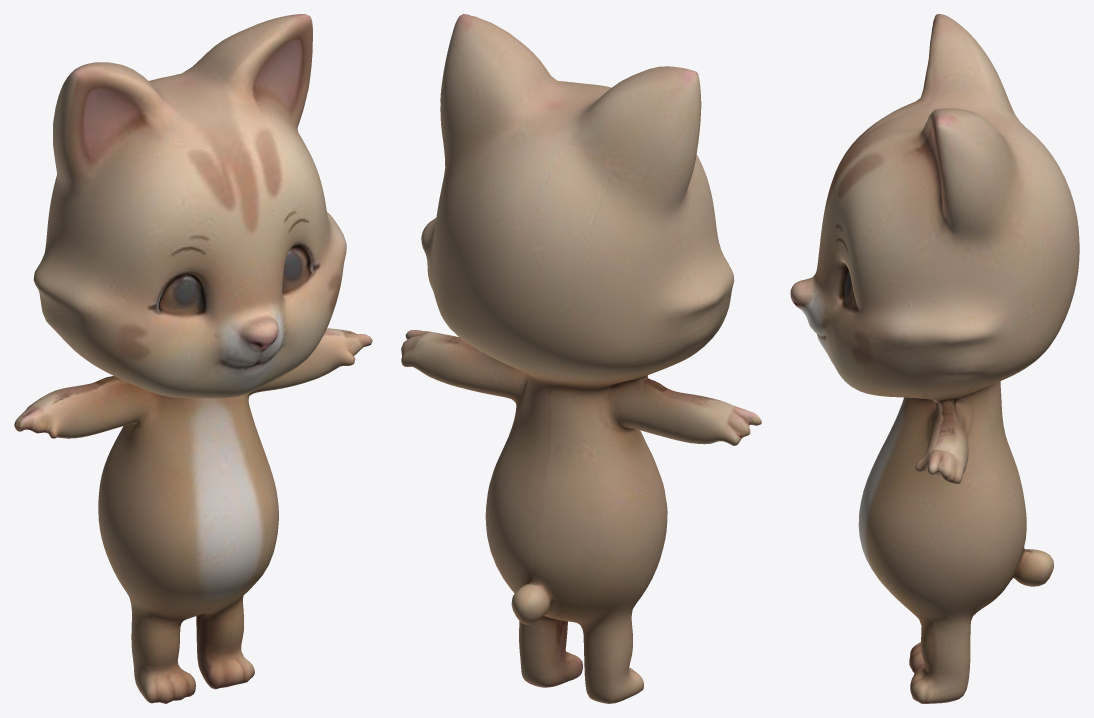
The model's file is slim-cat.glb.
3 views of the same model, side by side, from view 1: azimuth 30°, elevation 25°; view 2: azimuth 150°, elevation 25°; view 3: azimuth 270°, elevation 25° (orthographic). The views are drawn at different scales.
Visible parts, largest first — view 1: SlimCat; view 2: SlimCat; view 3: SlimCat.
Part boxes in pixels (left/top/right/bottom): SlimCat: left=14, top=14, right=372, bottom=703; SlimCat: left=401, top=14, right=761, bottom=703; SlimCat: left=790, top=14, right=1079, bottom=703.
Size of the model in its own units: 0.9035 by 1.57 by 0.6673.
1 material, 1 textured.
